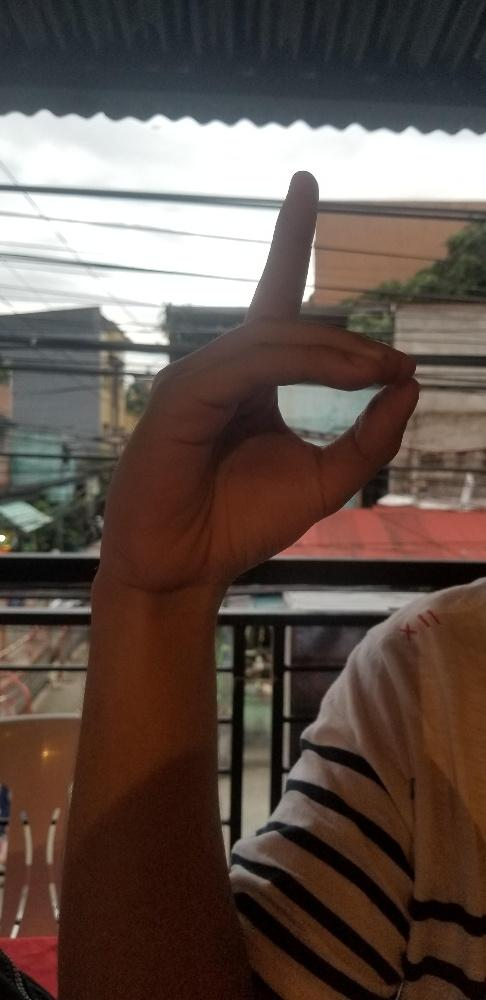d: (99, 166, 420, 581)
